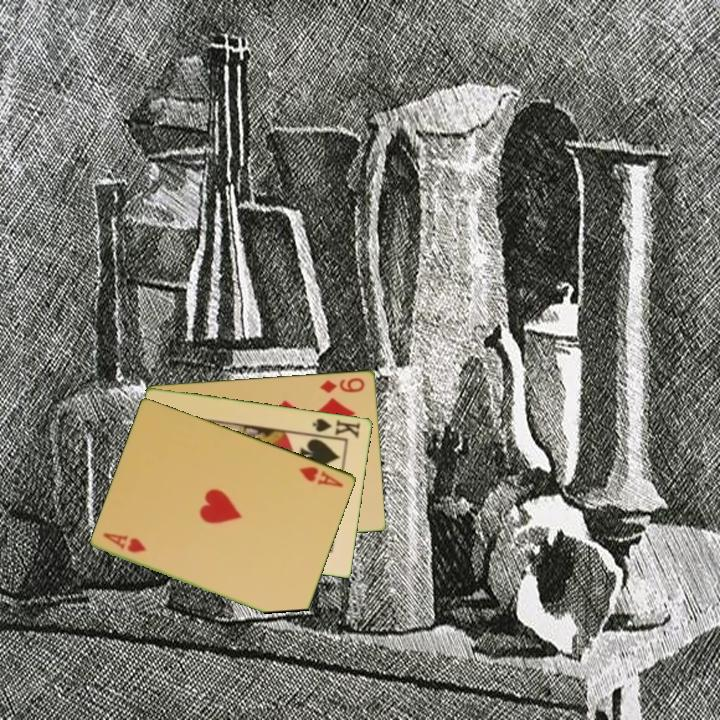9d: (317, 374, 368, 396)
Ah: (296, 463, 347, 490), (100, 529, 149, 555)
Ks: (308, 414, 363, 441)
